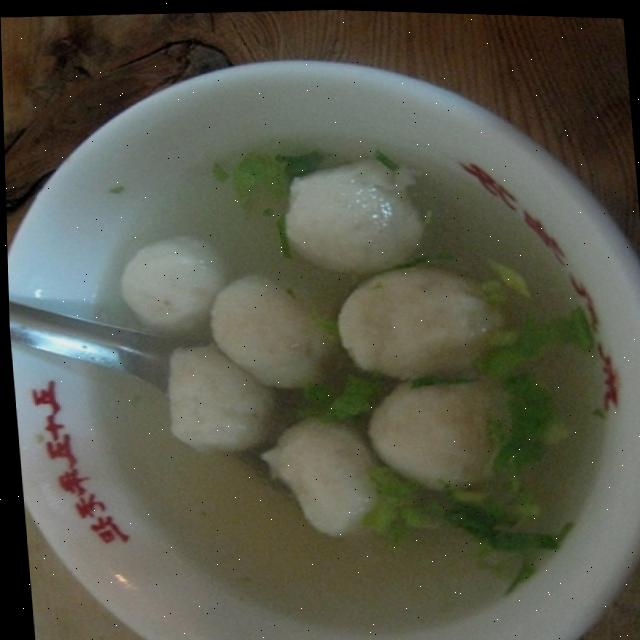熟制海鲜: (1, 40, 640, 640)
